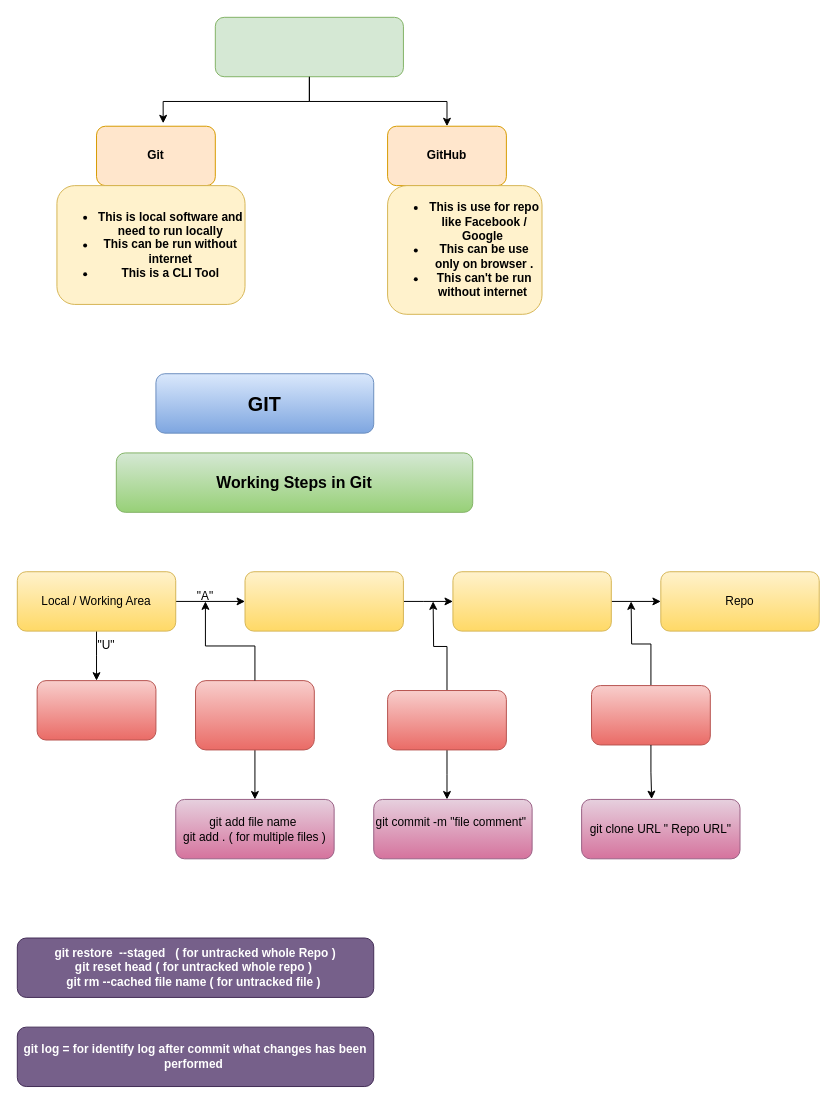
The diagram is 837 pixels wide and 1104 high, and some of its shapes have lost their labels. The centre of each missing label's shape, as x and y in pixels:
Commited Area: the point at 531,601
If we wanted to bring the file from repo to local then need to run clone URL: the point at 650,715
in this file will be add and sent into staged area: the point at 254,715
in this file will be commit and sent into commited area to save the files: the point at 446,720
in this file will be untracked: the point at 96,710
Staging Area: the point at 323,601
Version Control System: the point at 308,46
